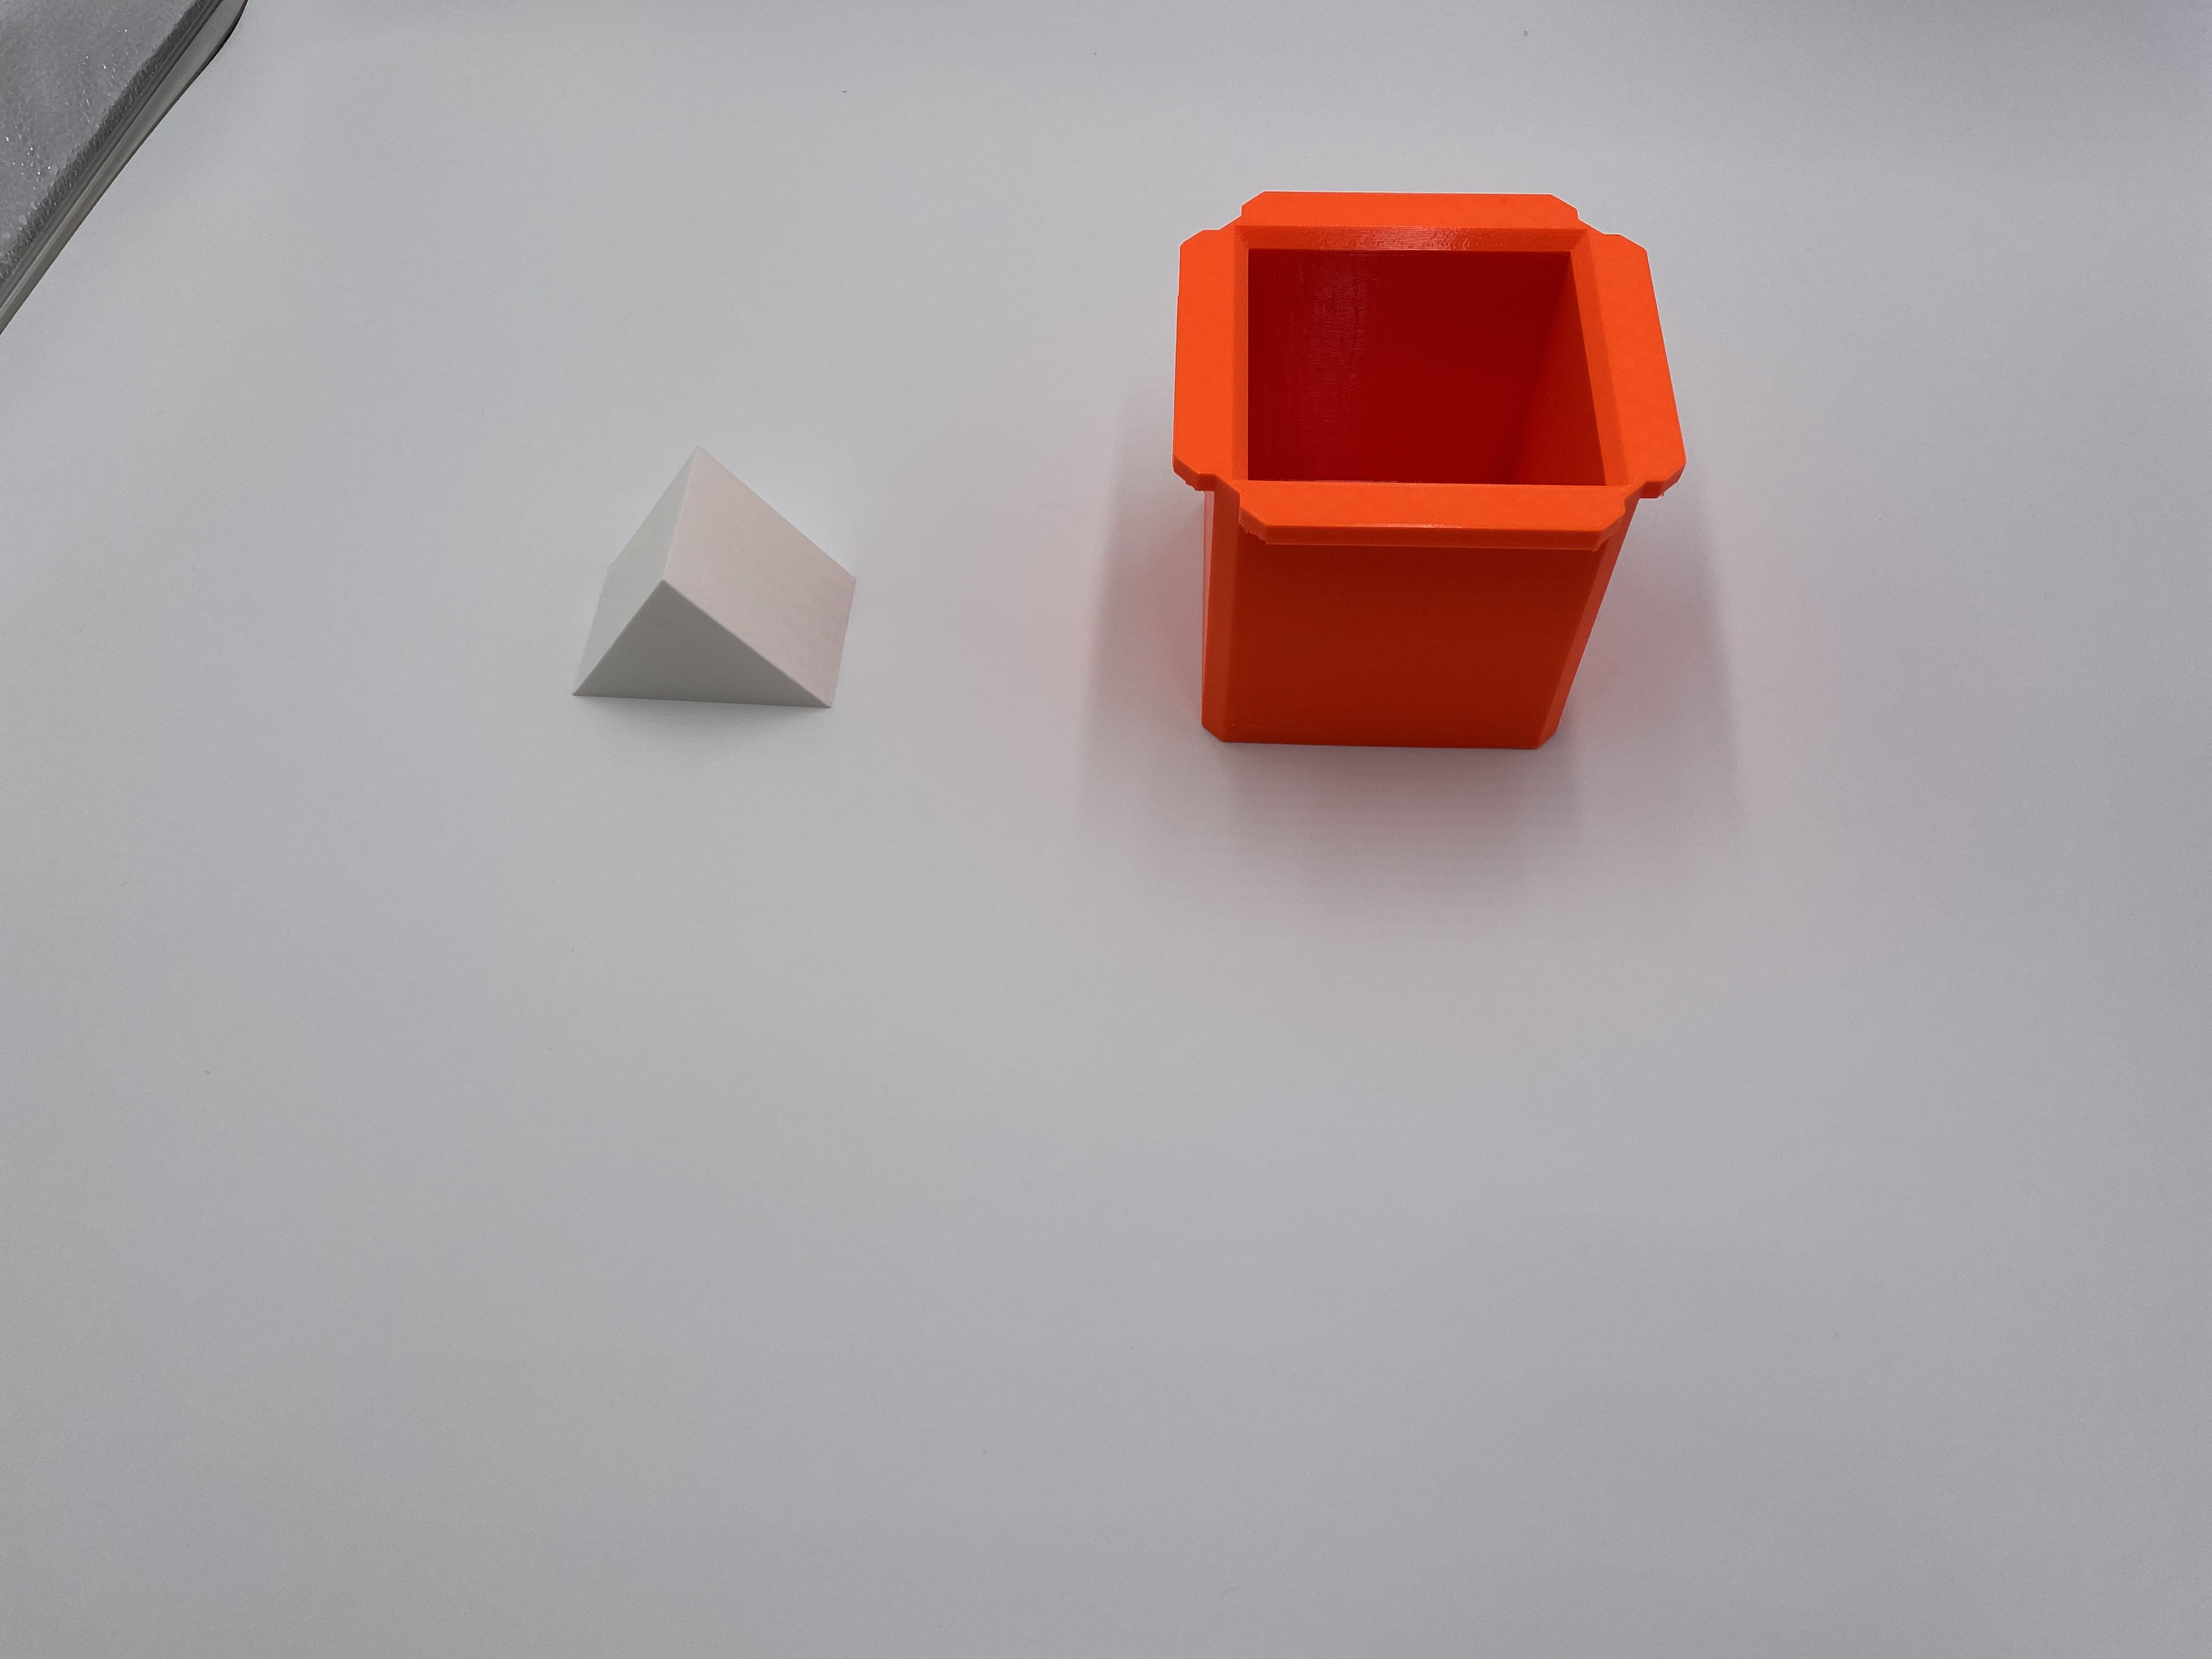payload1: (1167, 174, 1700, 802)
payload2: (559, 429, 873, 758)
